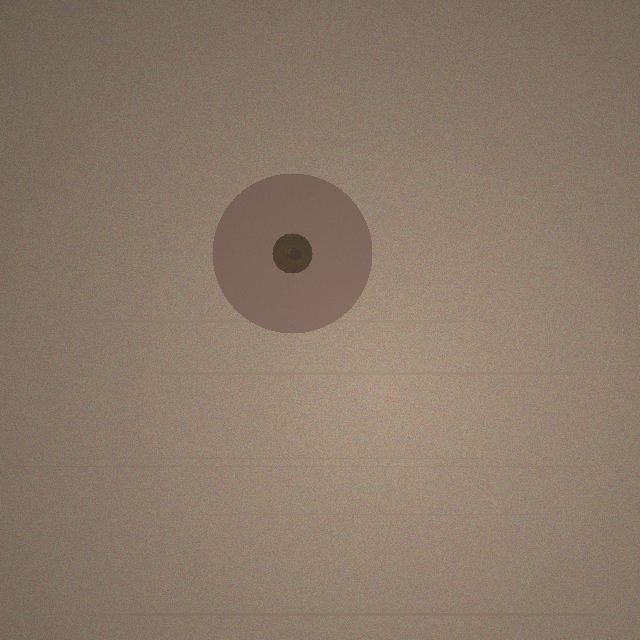cold_weld: (212, 173, 372, 333)
